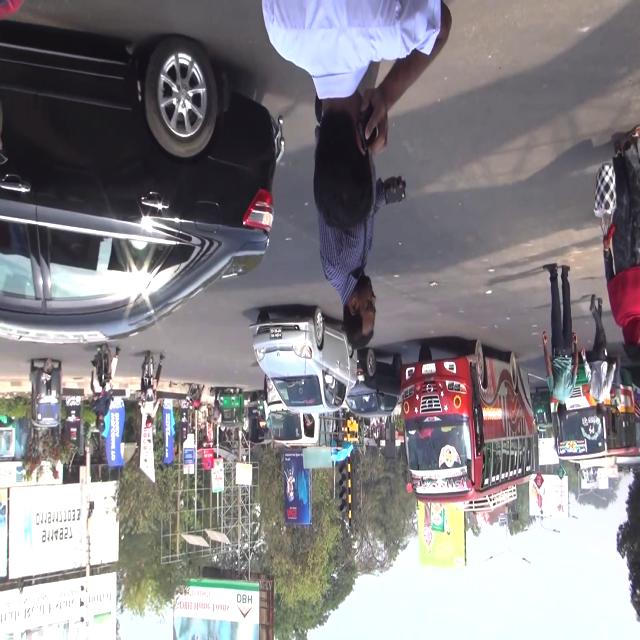black: (0, 32, 285, 347), (344, 351, 408, 422)
silver: (248, 306, 358, 416)
